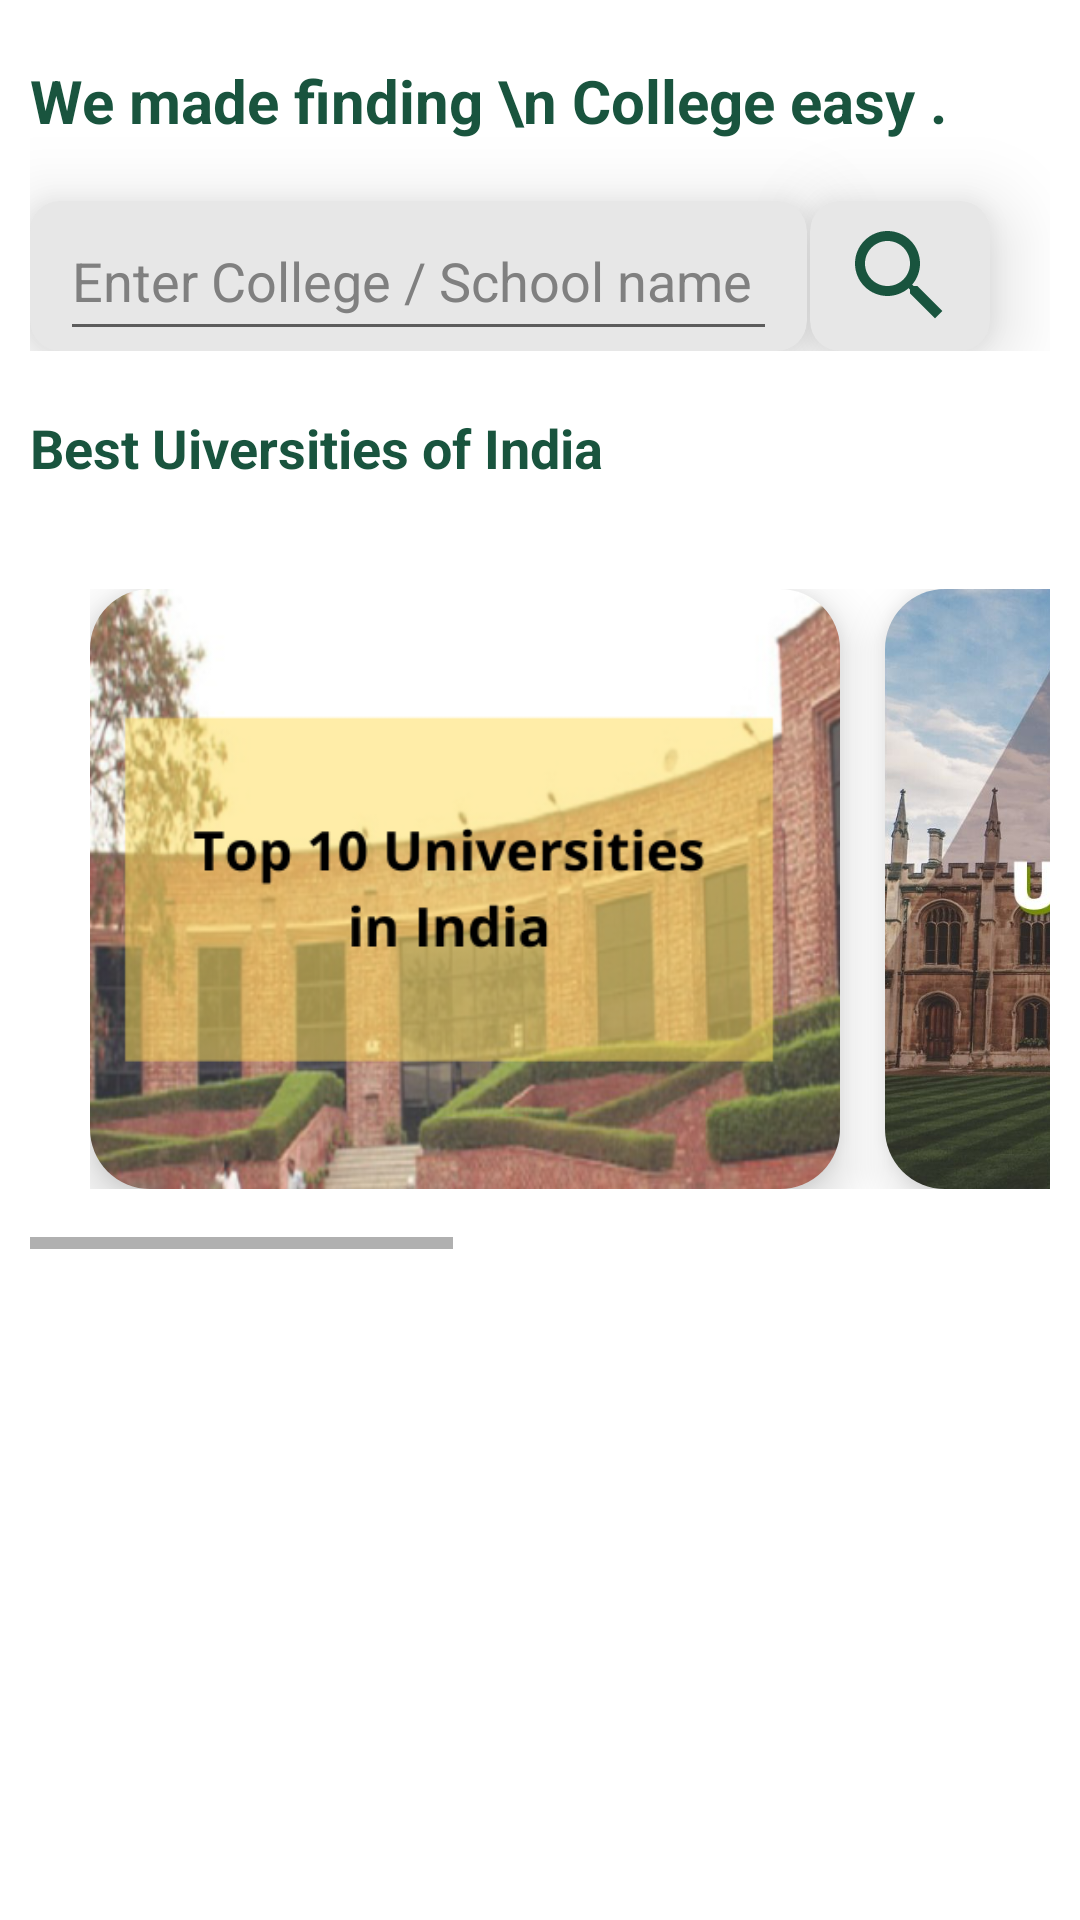

Where icons sit on this 1080x1920 app screen, as Rect(x1, y1, x2, y2):
search: Rect(855, 231, 942, 318)
